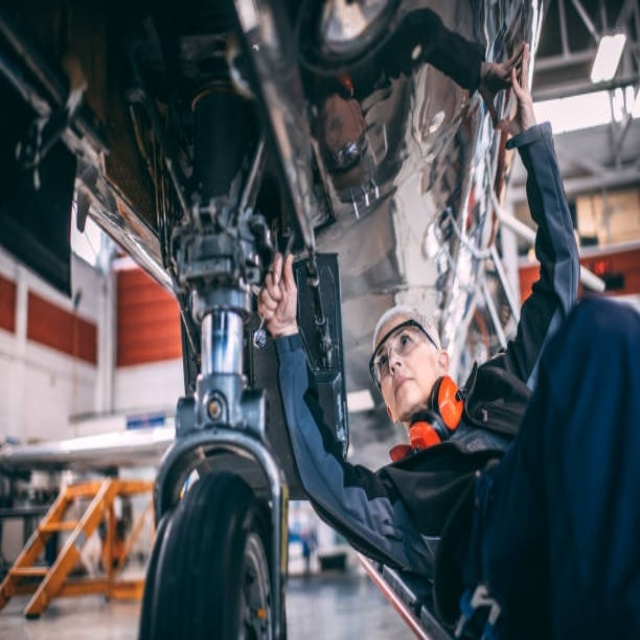Gafas: (370, 315, 438, 384)
Sin_guantes: (492, 42, 537, 143), (257, 252, 301, 340)
Sin_mascara: (387, 372, 419, 405)
